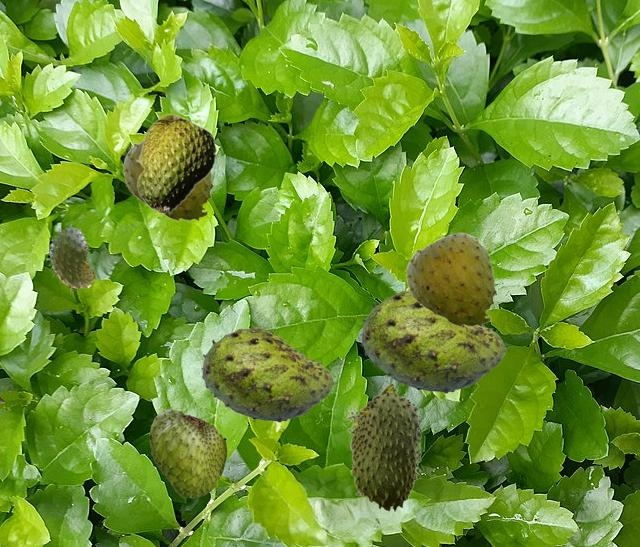guyabano: (360, 290, 505, 392), (201, 327, 333, 421), (347, 382, 424, 511), (404, 232, 496, 328), (135, 113, 216, 214), (121, 140, 213, 222), (149, 407, 226, 497), (46, 224, 95, 293)
